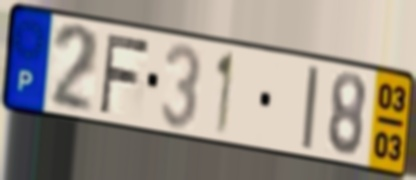1: (213, 48, 241, 140)
2: (49, 21, 101, 117)
3: (159, 39, 206, 135)
8: (326, 70, 369, 159)
F: (96, 30, 152, 116)
I: (299, 63, 322, 153)
